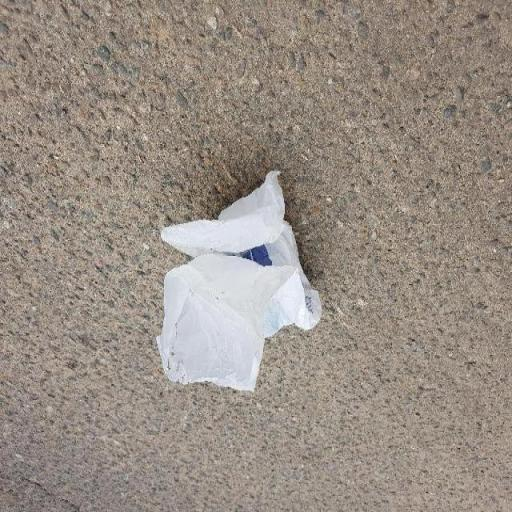plastic-bag: (152, 169, 322, 395)
